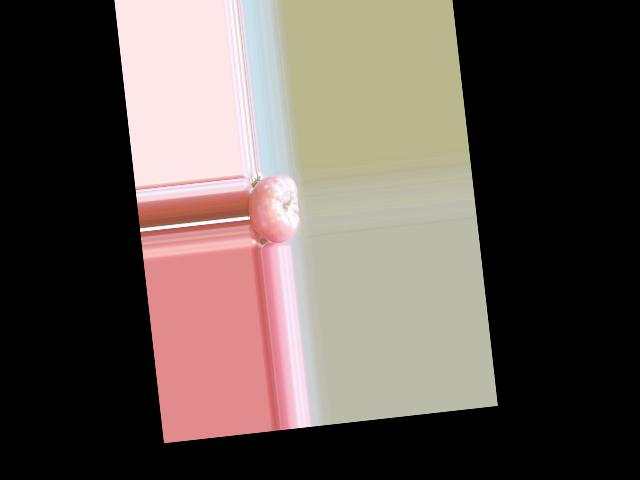tomato: (245, 173, 302, 246)
